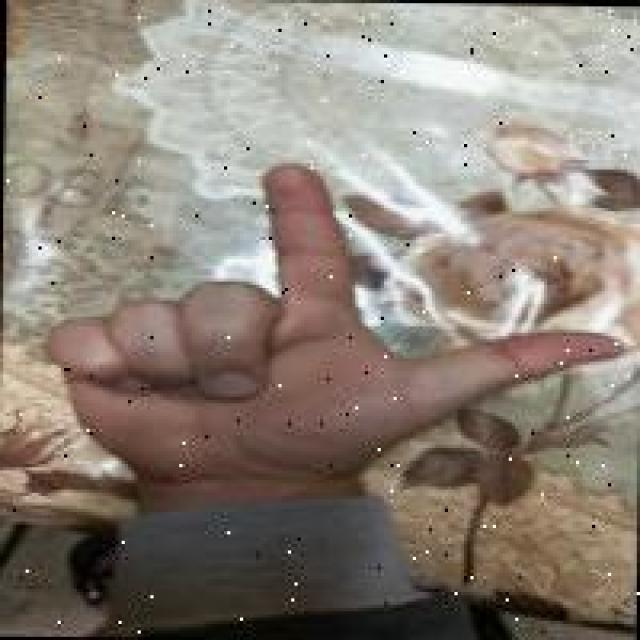L: (37, 147, 632, 474)
